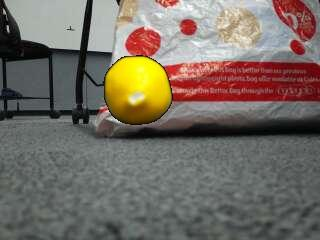lemon: (105, 56, 171, 125)
